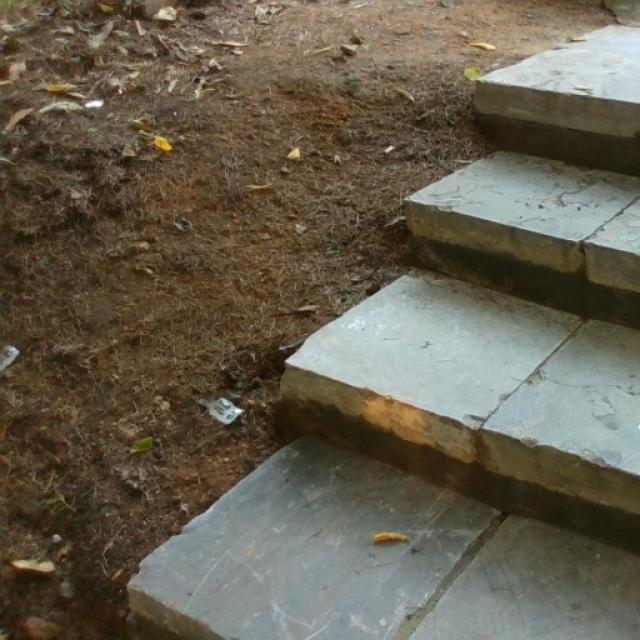Stairs: (124, 2, 638, 638)
